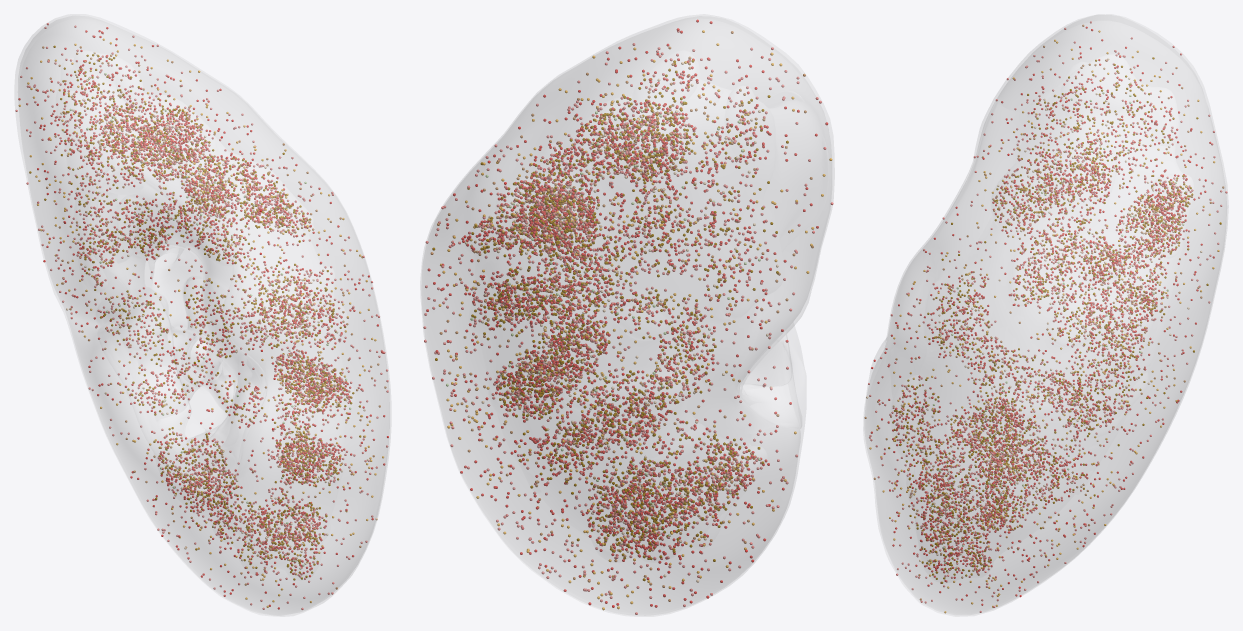
File: 3d-vh-f-kidney-l-UBERON_0004538-all-as-pan-human-azimuth-sphere-hra-pop.glb
3 views of the same model, side by side, from view 1: azimuth 30°, elevation 25°; view 2: azimuth 150°, elevation 25°; view 3: azimuth 270°, elevation 25° (orthographic). The views are drawn at different scales.
Visible parts, largest first — view 1: VH_F_kidney_capsule_L, VH_F_outer_cortex_of_kidney_L, VH_F_hilum_of_kidney_L, VH_F_renal_column_L, VH_F_renal_pyramid_L_g; view 2: VH_F_kidney_capsule_L, VH_F_outer_cortex_of_kidney_L, VH_F_hilum_of_kidney_L; view 3: VH_F_kidney_capsule_L, VH_F_outer_cortex_of_kidney_L.
Part boxes in pixels (x1,y1,x2,y2): VH_F_kidney_capsule_L: [15, 14, 390, 616]; VH_F_outer_cortex_of_kidney_L: [19, 19, 389, 615]; VH_F_hilum_of_kidney_L: [94, 169, 266, 490]; VH_F_renal_column_L: [147, 246, 229, 413]; VH_F_renal_pyramid_L_g: [158, 276, 232, 412]; VH_F_kidney_capsule_L: [420, 14, 834, 616]; VH_F_outer_cortex_of_kidney_L: [422, 19, 831, 615]; VH_F_hilum_of_kidney_L: [738, 335, 801, 428]; VH_F_kidney_capsule_L: [863, 14, 1228, 616]; VH_F_outer_cortex_of_kidney_L: [865, 21, 1226, 614].
Bounding box in the file's own units: 0.0731 × 0.1249 × 0.0776.
